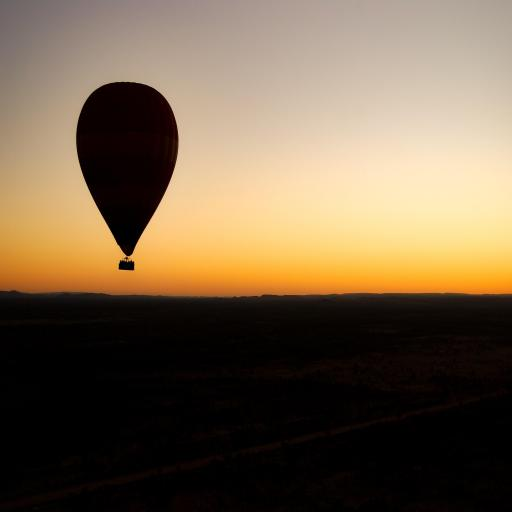hot air ballon: (76, 82, 178, 271)
